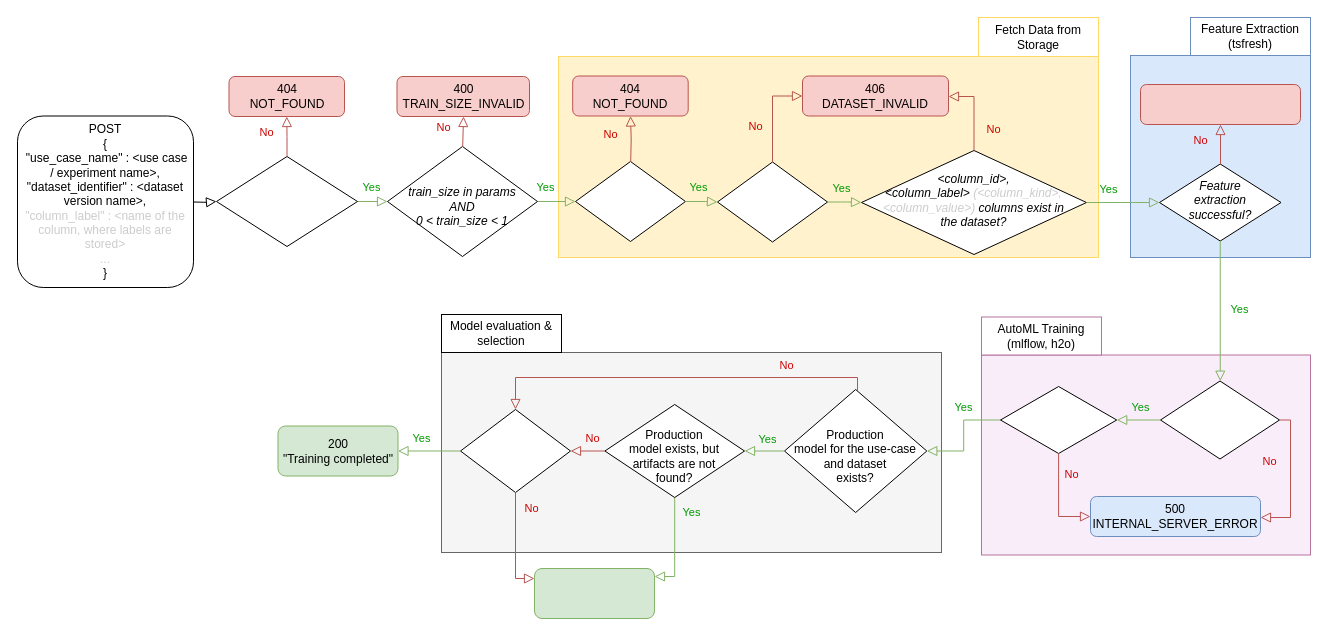
This 1328x636 diagram has some shape labels left out. Each missing label, with the centre of its shape:
200 "Training completed" + WARNING: point 594,593
406 FEATURES_NOT_CREATED: point 1220,104
Best model tagged for Production?: point 515,450
Dataset directory contains 1 csv-file?: point 772,201
Dataset directory exists in storage?: point 630,201
h2o training successful?: point 1058,420
MLFlow-Instance reachable?: point 1220,419
Use_case_name and dataset_identifier provided?: point 287,201
